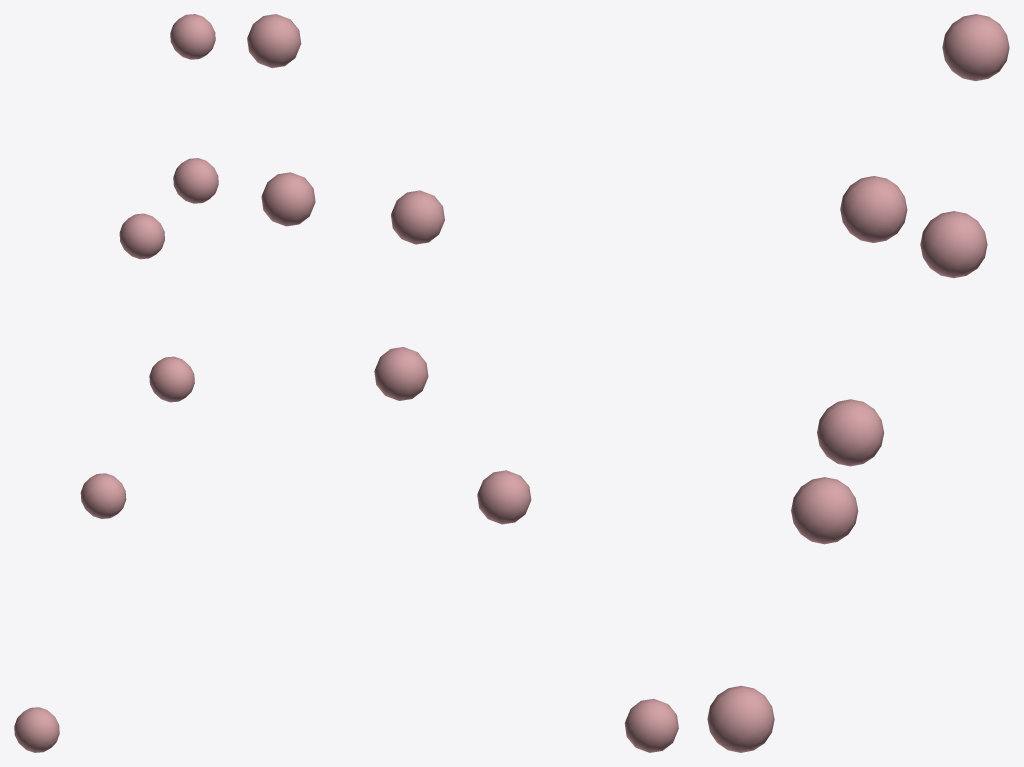
3 renders of one model, left to right at view 1: azimuth 30°, elevation 25°; view 2: azimuth 150°, elevation 25°; view 3: azimuth 270°, elevation 25°, orthographic. The views are drawn at different scales.
Parts seen in each view (by area): view 1: ZA_4e17f782bd60d237; view 2: ZA_4e17f782bd60d237; view 3: ZA_4e17f782bd60d237.
Boxes of the visible parts, x1,y1,x2,y2 form: ZA_4e17f782bd60d237: [14, 14, 218, 752]; ZA_4e17f782bd60d237: [247, 14, 678, 752]; ZA_4e17f782bd60d237: [707, 14, 1009, 752].
Size of the model in its own units: 0.0179 by 0.0384 by 0.0117.
